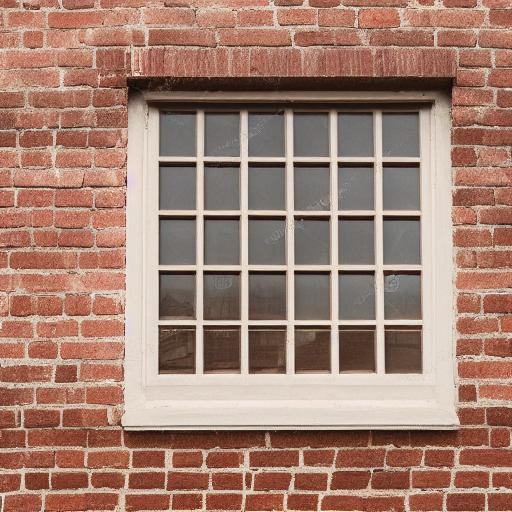Window: (115, 47, 468, 434)
